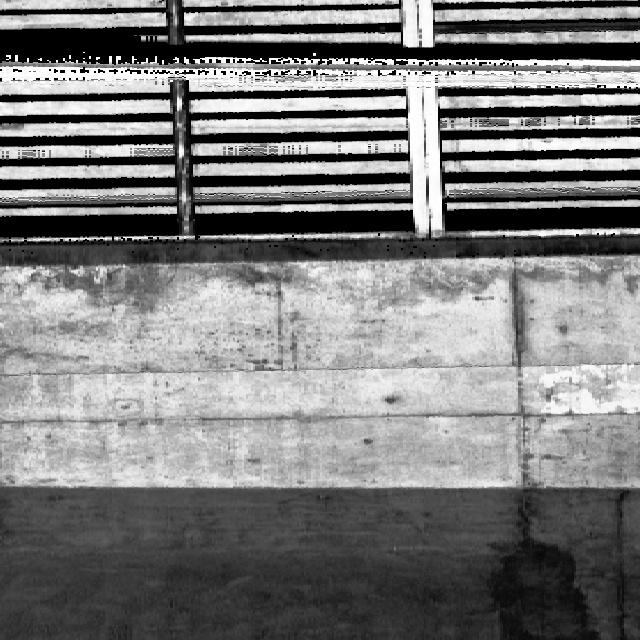leakage: (484, 501, 596, 639)
